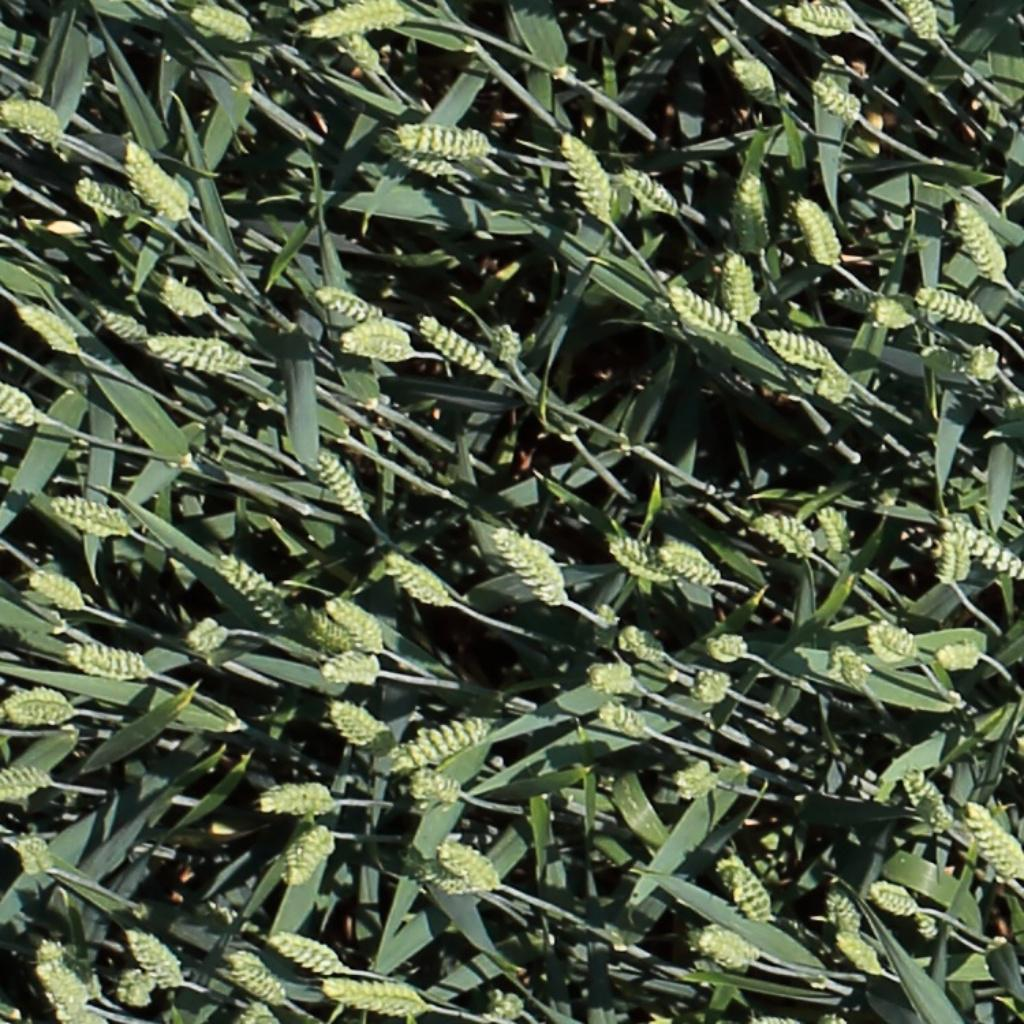0-0: (390, 703, 497, 771), (217, 552, 301, 634), (120, 133, 193, 222), (494, 527, 570, 607), (320, 966, 429, 1020), (559, 125, 617, 223), (419, 312, 502, 379), (953, 189, 1010, 286), (141, 331, 255, 379), (942, 517, 1023, 583), (963, 801, 1023, 888), (36, 923, 101, 1000), (312, 442, 372, 522), (64, 631, 154, 684), (397, 121, 498, 168), (765, 329, 851, 383), (309, 0, 402, 48), (122, 925, 187, 992), (716, 849, 773, 924), (692, 920, 763, 980), (576, 648, 645, 709), (902, 765, 957, 841), (795, 188, 845, 271), (256, 777, 338, 826), (32, 953, 88, 1024), (670, 281, 741, 337), (282, 824, 337, 895), (715, 247, 760, 329), (2, 88, 69, 143), (326, 595, 387, 655), (385, 554, 451, 608), (337, 319, 416, 364), (7, 682, 82, 729), (781, 0, 861, 44), (727, 167, 771, 247), (608, 536, 677, 585), (666, 751, 724, 809), (17, 300, 80, 353), (313, 649, 384, 696), (47, 496, 132, 535), (292, 604, 357, 655), (176, 606, 235, 662), (228, 953, 290, 1006), (378, 136, 457, 177), (267, 926, 344, 968), (157, 271, 220, 322), (24, 564, 87, 614), (391, 847, 451, 899), (924, 517, 965, 593), (101, 966, 161, 1017), (403, 769, 463, 819), (621, 165, 682, 214), (865, 870, 922, 922), (585, 593, 628, 661), (12, 828, 65, 883), (441, 845, 503, 892), (863, 286, 918, 338), (749, 513, 817, 555), (310, 278, 382, 317), (731, 57, 787, 107), (962, 331, 1006, 393), (0, 755, 59, 801), (339, 25, 389, 79), (916, 285, 988, 322), (73, 176, 140, 215), (812, 73, 865, 122), (329, 701, 383, 748), (835, 932, 888, 978), (830, 641, 876, 694), (932, 633, 988, 676), (816, 499, 854, 562), (814, 280, 875, 319), (662, 547, 723, 585), (477, 980, 532, 1022), (901, 1, 948, 50), (909, 897, 948, 953), (191, 5, 253, 40), (872, 621, 924, 662), (0, 371, 39, 425), (827, 886, 862, 946), (704, 628, 752, 669), (95, 304, 148, 339), (808, 374, 859, 410), (621, 626, 670, 663), (600, 704, 651, 738), (495, 318, 524, 370), (693, 670, 734, 705), (241, 998, 275, 1024)
